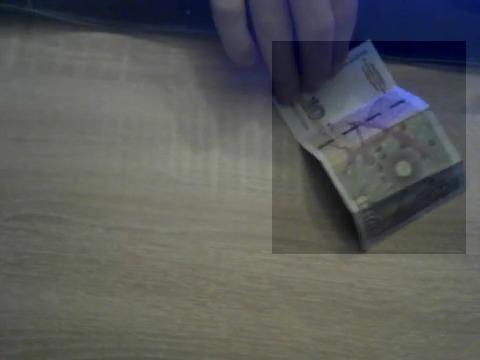10leva: (272, 41, 466, 254)
